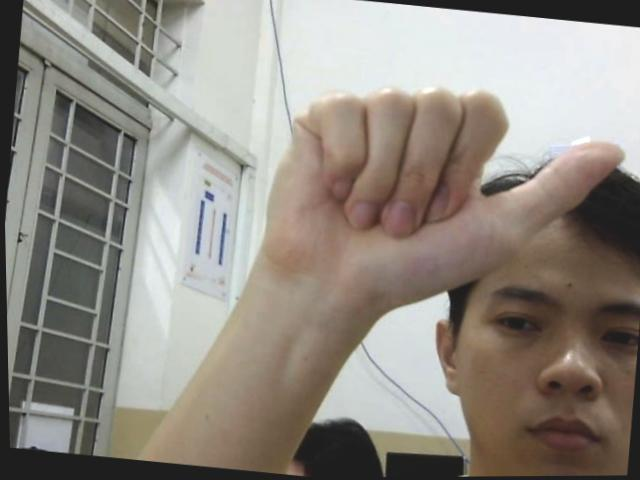A: (256, 68, 635, 315)
